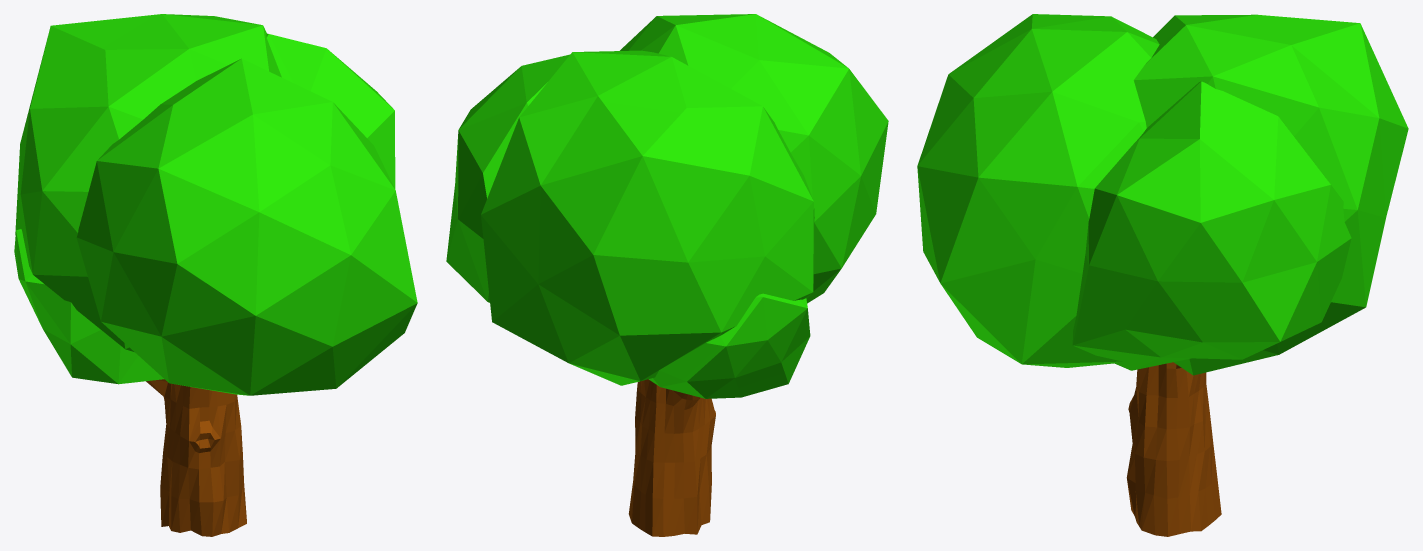
The model's file is tree.glb.
3 views of the same model, side by side, from view 1: azimuth 30°, elevation 25°; view 2: azimuth 150°, elevation 25°; view 3: azimuth 270°, elevation 25° (orthographic). The views are drawn at different scales.
Parts seen in each view (by area): view 1: Cylinder; view 2: Cylinder; view 3: Cylinder.
Boxes of the visible parts, x1,y1,x2,y2 form: Cylinder: [14, 14, 417, 536]; Cylinder: [446, 14, 888, 536]; Cylinder: [917, 14, 1408, 536].
Size of the model in its own units: 16.5 by 21.82 by 19.57.
